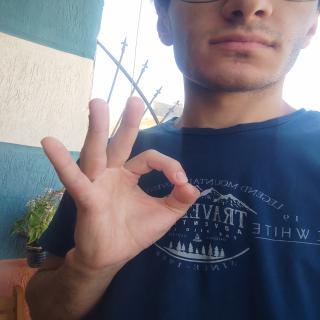Space: (37, 92, 202, 260)
